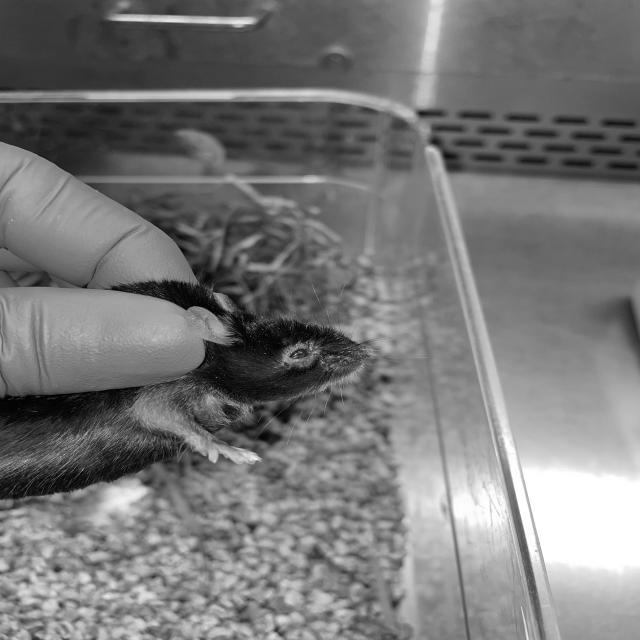Face: (177, 292, 379, 419)
